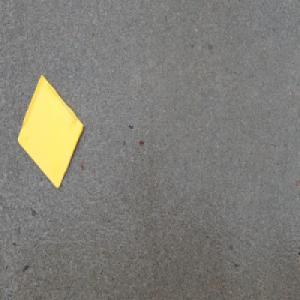PlasticPart: (16, 72, 84, 189)
